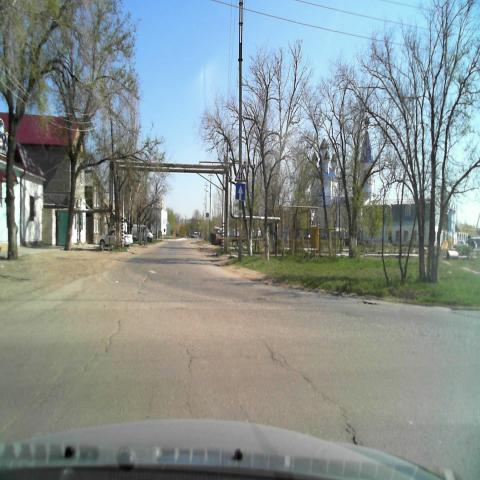1_21: (236, 164, 246, 182)
